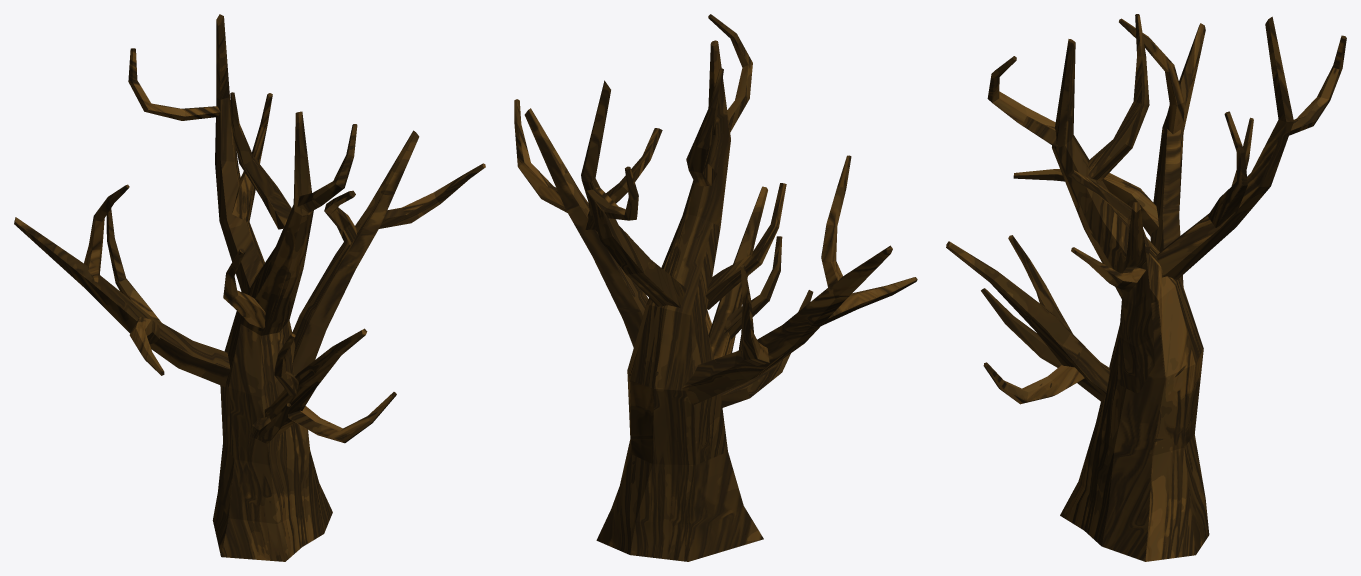
The model's file is Dead_Bush1.fbx.
The picture shows the model from 3 angles, left to right: view 1: azimuth 30°, elevation 25°; view 2: azimuth 150°, elevation 25°; view 3: azimuth 270°, elevation 25°; orthographic projection. The views are drawn at different scales.
Visible parts, largest first — view 1: Dead_Bush_1; view 2: Dead_Bush_1; view 3: Dead_Bush_1.
Part boxes in pixels (left/top/right/bottom): Dead_Bush_1: left=14, top=14, right=485, bottom=561; Dead_Bush_1: left=514, top=14, right=917, bottom=561; Dead_Bush_1: left=946, top=14, right=1346, bottom=561.
Size of the model in its own units: 84.39 by 64.45 by 91.52.
